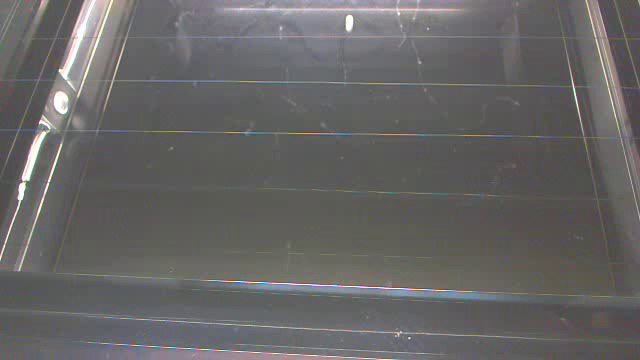Alfa: (344, 12, 355, 34)
